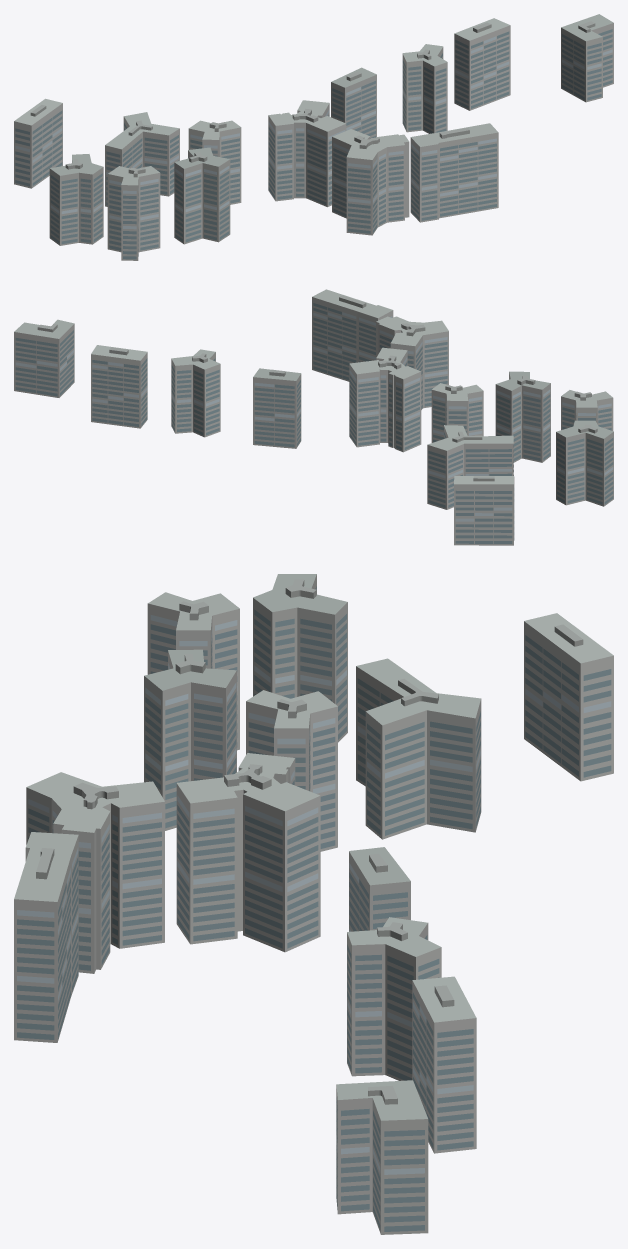
File: apt-a12070101.glb
3 views of the same model, one above another, from view 1: azimuth 30°, elevation 25°; view 2: azimuth 150°, elevation 25°; view 3: azimuth 270°, elevation 25° (orthographic). The views are drawn at different scales.
Visible parts, largest first — view 1: apt-a12070101; view 2: apt-a12070101; view 3: apt-a12070101.
Boxes of the visible parts, left/top/right/bottom form: apt-a12070101: left=14, top=14, right=613, bottom=260; apt-a12070101: left=14, top=289, right=613, bottom=545; apt-a12070101: left=14, top=574, right=613, bottom=1234.
Bounding box in the file's own units: 323 × 42 × 155.
